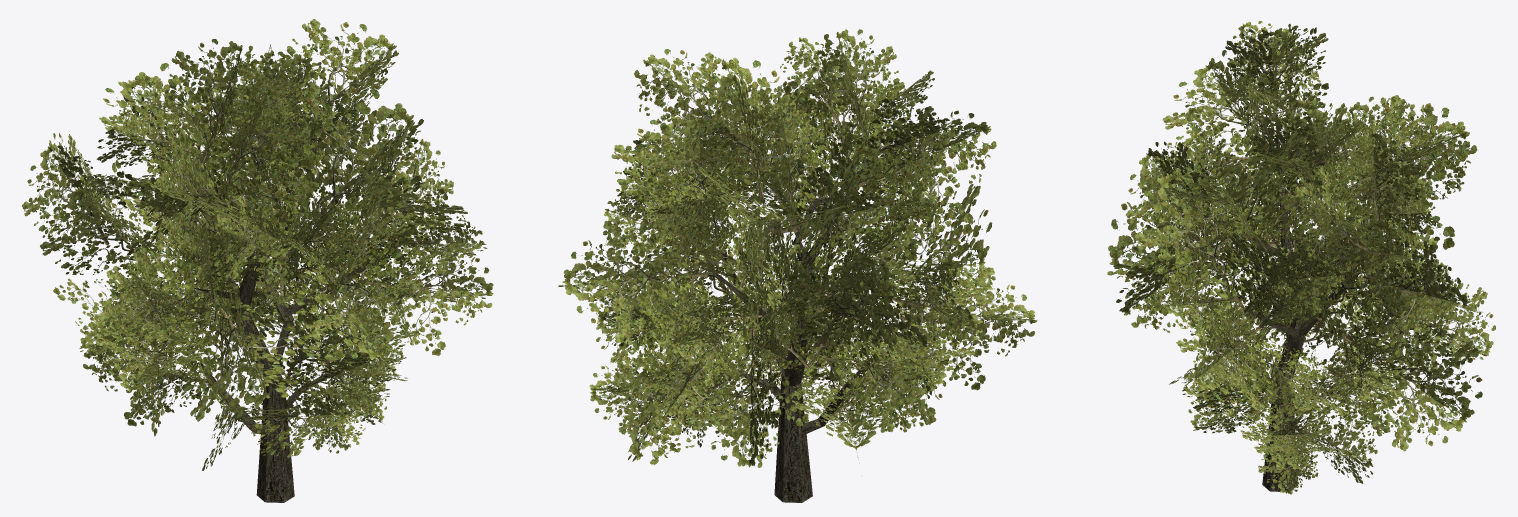
Rendered from qiaomu.FBX.
3 renders of one model, left to right at view 1: azimuth 30°, elevation 25°; view 2: azimuth 150°, elevation 25°; view 3: azimuth 270°, elevation 25°, orthographic. The views are drawn at different scales.
Visible parts, largest first — view 1: qiaomu; view 2: qiaomu; view 3: qiaomu.
Part boxes in pixels (x1=…): qiaomu: x1=22, y1=19, x2=493, y2=502; qiaomu: x1=558, y1=29, x2=1037, y2=502; qiaomu: x1=1107, y1=21, x2=1495, y2=494.
Bounding box in the file's own units: 16.83 × 19.66 × 16.53.
2 materials, 2 textured.
